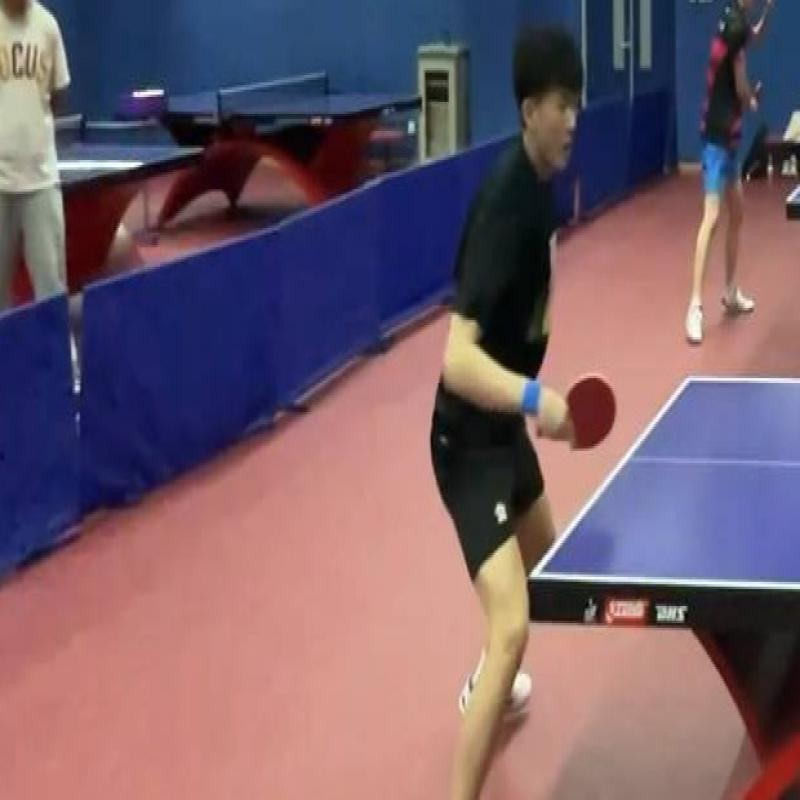bats: (546, 366, 624, 461)
